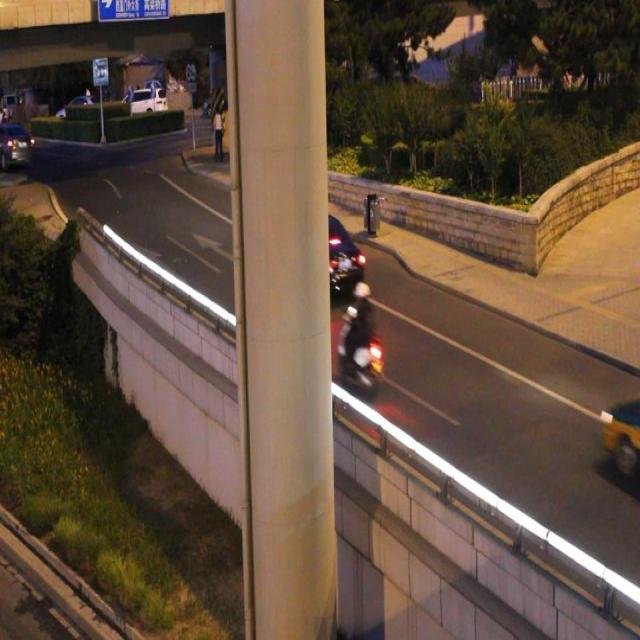car: (264, 215, 364, 298), (602, 391, 640, 465)
